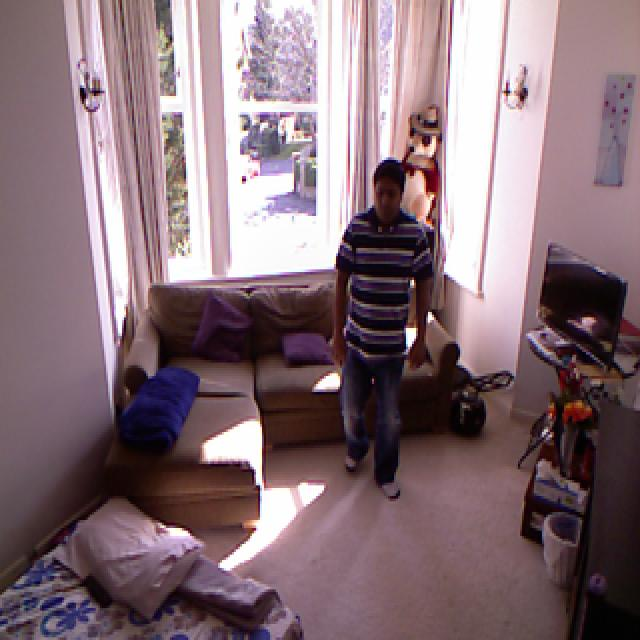standing: (334, 157, 430, 499)
